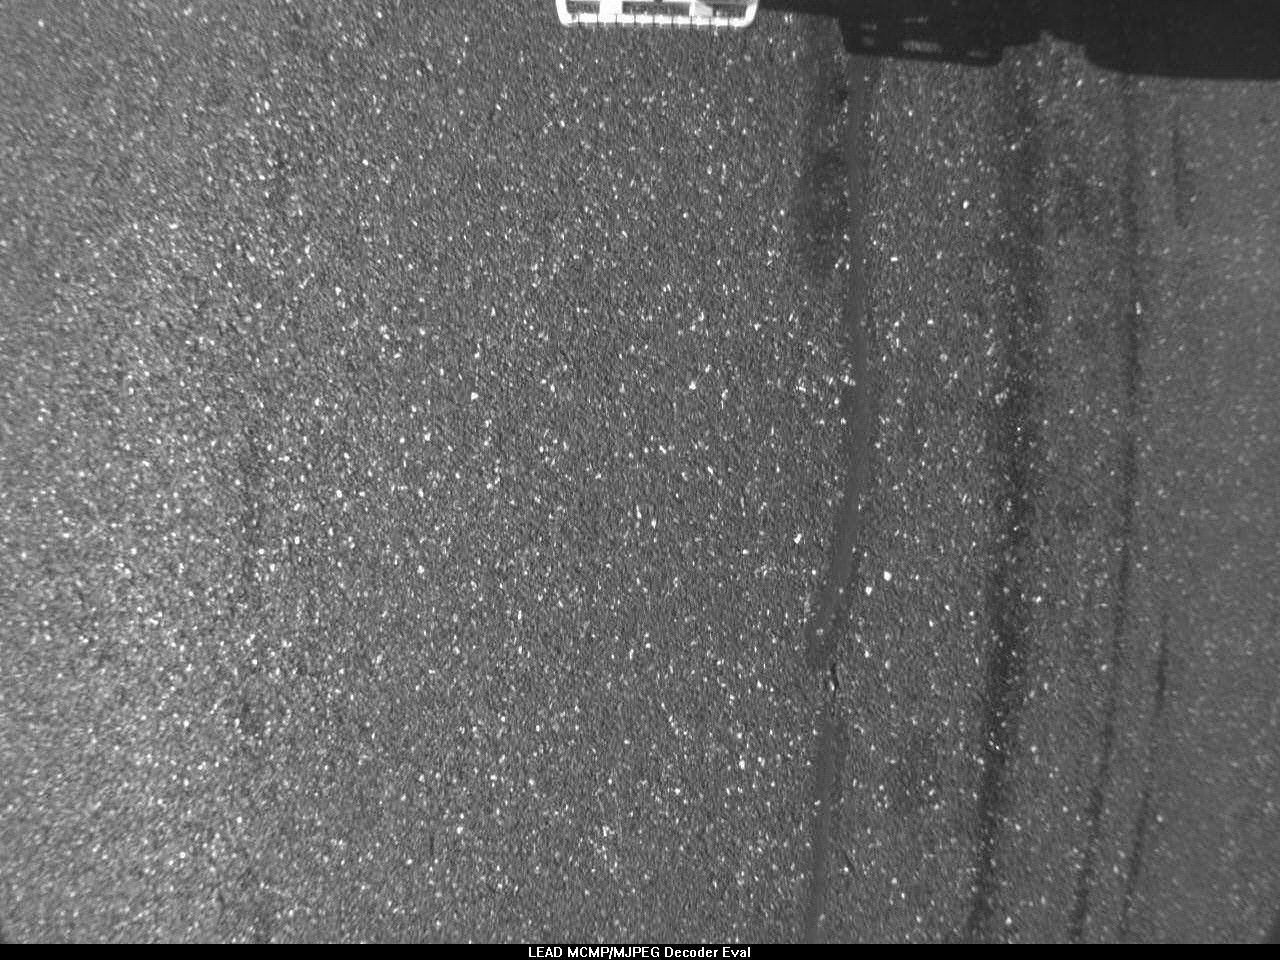sealed: (778, 14, 878, 930)
